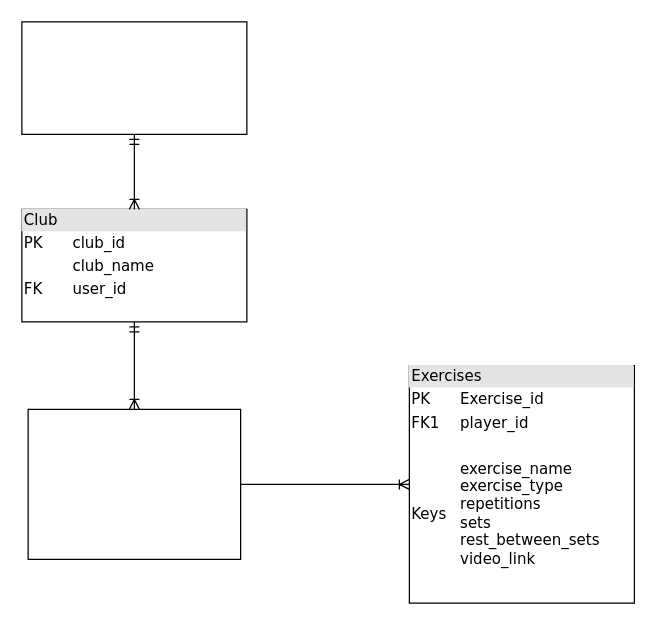
This 656x625 diagram has some shape labels left out. The centre of each missing label's shape, as x and y in pixels:
"Players PK player_id FK1 club_id Keys player_name possition dress_num" belongs at pixel 134 483.
"users PK user_id username password" belongs at pixel 134 77.
